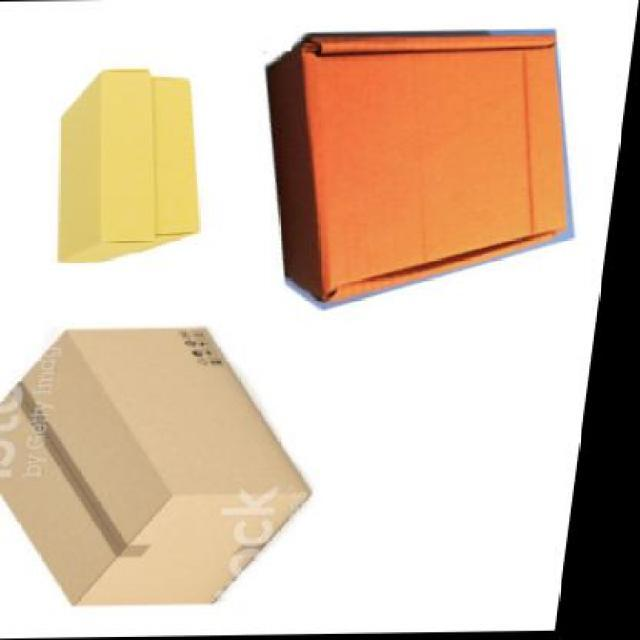box: (0, 324, 339, 606), (244, 35, 596, 302), (48, 69, 222, 265)
